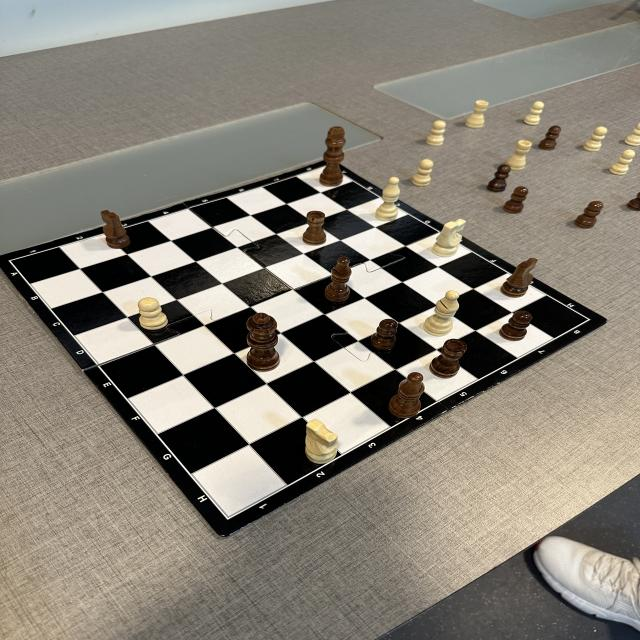Black-Bishop: (388, 372, 425, 419), (324, 256, 352, 302)
Black-King: (319, 126, 346, 187)
Black-Knight: (500, 258, 538, 298), (100, 210, 131, 249)
Black-Pawn: (499, 311, 533, 341), (370, 318, 398, 349), (574, 201, 604, 228), (502, 186, 528, 214), (486, 164, 511, 192), (538, 126, 561, 150)
Black-Queen: (246, 313, 280, 372)
Black-Rook: (429, 338, 467, 378), (302, 211, 326, 246)
White-Bishop: (423, 290, 460, 337), (374, 177, 400, 221)
White-Knight: (304, 418, 338, 464), (432, 218, 466, 258)
White-Pawn: (137, 297, 169, 330), (464, 100, 489, 129), (610, 149, 636, 175), (583, 126, 608, 152), (411, 159, 433, 187), (523, 101, 545, 126), (426, 121, 446, 146), (624, 122, 640, 146)
White-Rook: (505, 140, 532, 166)
